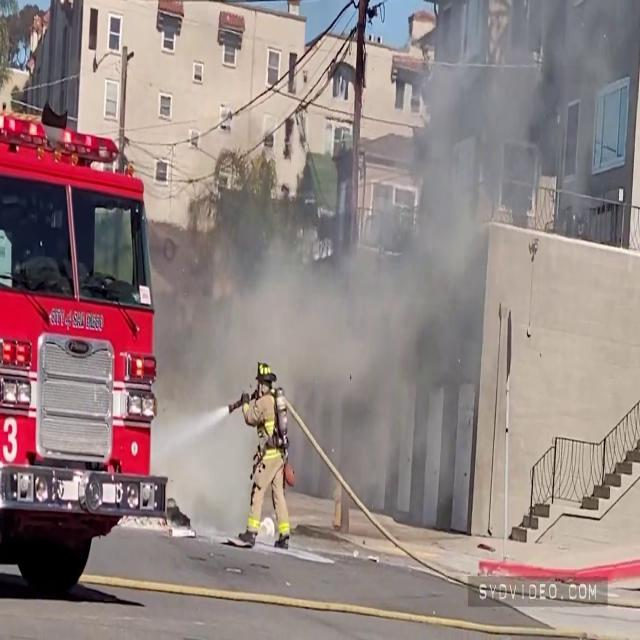Smoke: (166, 19, 510, 500)
